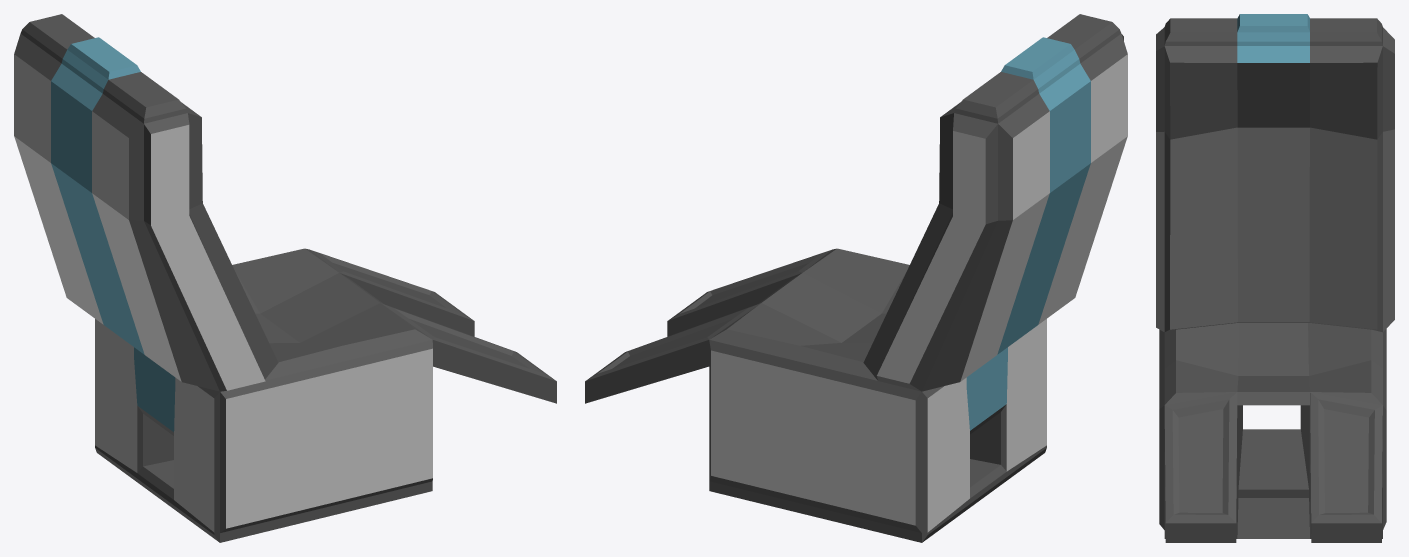
Rendered from PiloteArmchair.dae.
3 views of the same model, side by side, from view 1: azimuth 30°, elevation 25°; view 2: azimuth 150°, elevation 25°; view 3: azimuth 270°, elevation 25° (orthographic). The views are drawn at different scales.
Visible parts, largest first — view 1: PiloteArmchair; view 2: PiloteArmchair; view 3: PiloteArmchair.
Boxes of the visible parts, left/top/right/bottom form: PiloteArmchair: left=14, top=14, right=556, bottom=542; PiloteArmchair: left=585, top=14, right=1127, bottom=542; PiloteArmchair: left=1156, top=14, right=1394, bottom=542.
Size of the model in its own units: 1.52 by 0.8381 by 1.56.
